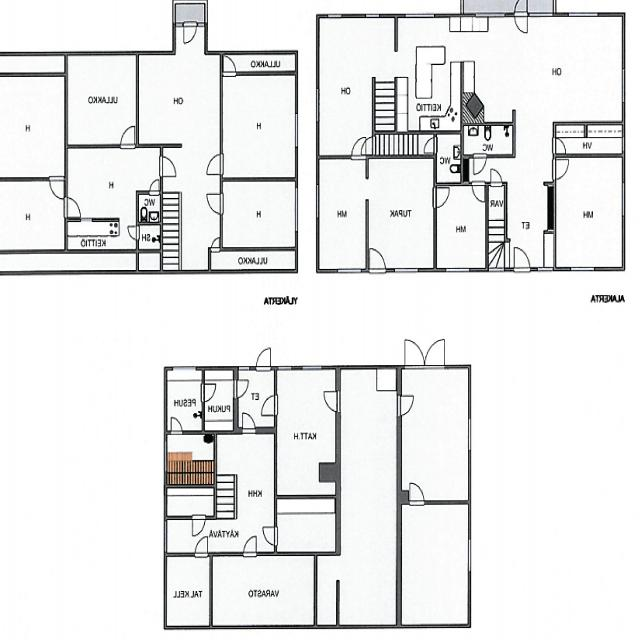door: (405, 336, 425, 368), (425, 336, 444, 368), (514, 245, 530, 273), (321, 389, 341, 410), (370, 247, 386, 273), (397, 394, 416, 415), (256, 343, 271, 368), (410, 479, 425, 503), (554, 159, 571, 180), (160, 156, 177, 177), (260, 525, 277, 545), (260, 394, 277, 414), (205, 194, 222, 214), (205, 154, 222, 174), (192, 514, 206, 538), (183, 22, 197, 46), (121, 124, 135, 148), (49, 177, 63, 200), (242, 409, 255, 433), (243, 532, 257, 554), (64, 197, 80, 216), (234, 380, 250, 398), (202, 383, 218, 401), (434, 188, 450, 206), (352, 136, 365, 158), (474, 154, 487, 176), (360, 136, 375, 154), (195, 532, 207, 554), (515, 12, 527, 34), (224, 53, 236, 75), (472, 182, 484, 203), (490, 166, 502, 186), (422, 136, 436, 152), (515, 0, 528, 16), (172, 414, 182, 433), (554, 138, 567, 152), (126, 226, 139, 239), (150, 178, 158, 194), (211, 236, 219, 250)
